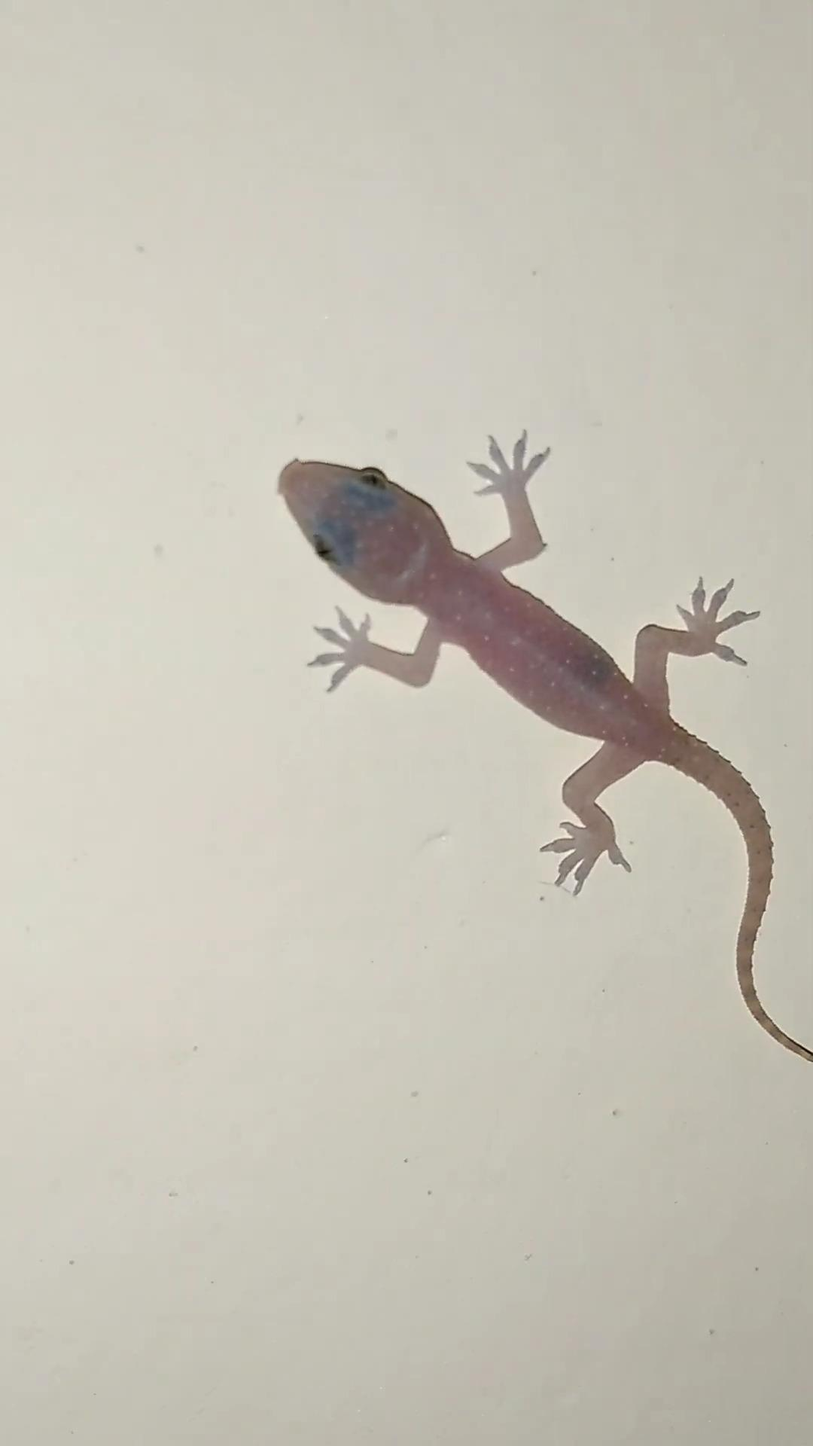lizard: (219, 389, 813, 1079)
